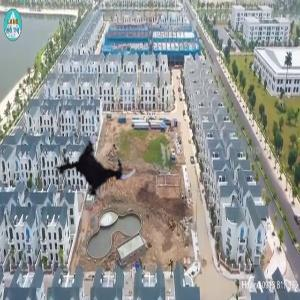drone: (52, 121, 141, 210)
